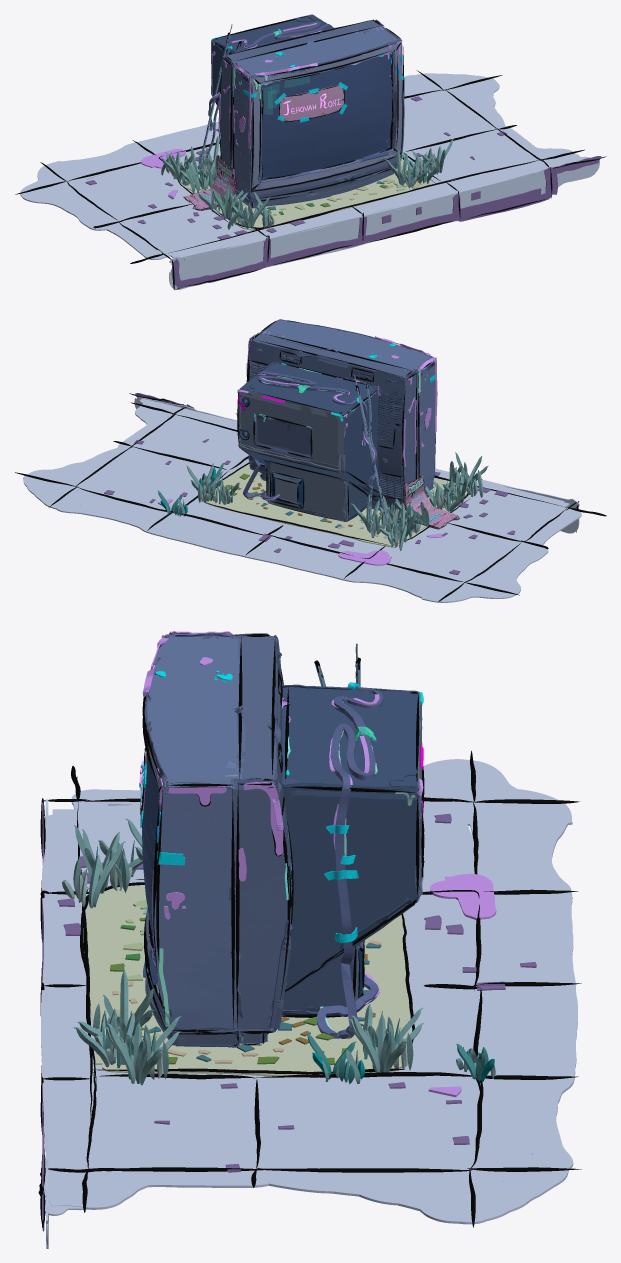
Rendered from Psalm- 119_105-a-BlenderPP.glb.
3 renders of one model, top to bottom at view 1: azimuth 30°, elevation 25°; view 2: azimuth 150°, elevation 25°; view 3: azimuth 270°, elevation 25°, orthographic. The views are drawn at different scales.
Visible parts, largest first — view 1: Ground Color, TV Screen, Flat TV Front Color, Tv Flat Color 1, Ground front color, Grass, Ground Lines, TV flat Color 2, Tv Lines, Bottom Tv, Ink, Flat TV Back (+7 smaller); view 2: Ground Color, Flat TV Back, TV flat Color 2, Tv Flat Color 1, Grass, Bottom Tv, Ground Lines, Tv Lines, Ink, Cord, Sign color, Antennas (+2 smaller); view 3: Ground Color, Flat TV Back, Tv Flat Color 1, TV flat Color 2, Bottom Tv, Grass, Ground Lines, Tv Lines, Cord, Ink, TV Screen, Ground Grunge (+3 smaller).
Part boxes in pixels (box(x1,y1,x2,y2)): Ground Color: box(20, 73, 599, 289); TV Screen: box(259, 53, 397, 181); Flat TV Front Color: box(249, 39, 402, 197); Tv Flat Color 1: box(234, 26, 404, 197); Ground front color: box(85, 167, 553, 288); Grass: box(161, 136, 453, 229); Ground Lines: box(15, 70, 606, 289); TV flat Color 2: box(219, 19, 402, 202); Tv Lines: box(215, 16, 404, 207); Bottom Tv: box(172, 159, 430, 229); Ink: box(141, 14, 404, 196); Flat TV Back: box(211, 14, 393, 208); Ground Color: box(23, 397, 581, 602); Flat TV Back: box(238, 361, 428, 521); TV flat Color 2: box(247, 319, 435, 505); Tv Flat Color 1: box(241, 320, 435, 491); Grass: box(157, 413, 488, 550); Bottom Tv: box(205, 464, 468, 547); Ground Lines: box(15, 393, 606, 602); Tv Lines: box(237, 321, 435, 520); Ink: box(158, 334, 443, 565); Cord: box(243, 371, 376, 500); Sign color: box(403, 475, 459, 529); Antennas: box(354, 375, 388, 537); Ground Color: box(41, 759, 577, 1248); Flat TV Back: box(143, 670, 423, 1047); Tv Flat Color 1: box(146, 636, 421, 1029); TV flat Color 2: box(144, 633, 421, 1035); Bottom Tv: box(86, 886, 409, 1076); Grass: box(62, 818, 495, 1085); Ground Lines: box(38, 750, 581, 1231); Tv Lines: box(140, 634, 424, 1047); Cord: box(317, 687, 382, 1038); Ink: box(142, 631, 496, 1097); TV Screen: box(142, 753, 159, 984); Ground Grunge: box(42, 802, 536, 1230).
Bounding box in the file's own units: 5.17 × 1.79 × 2.48.
